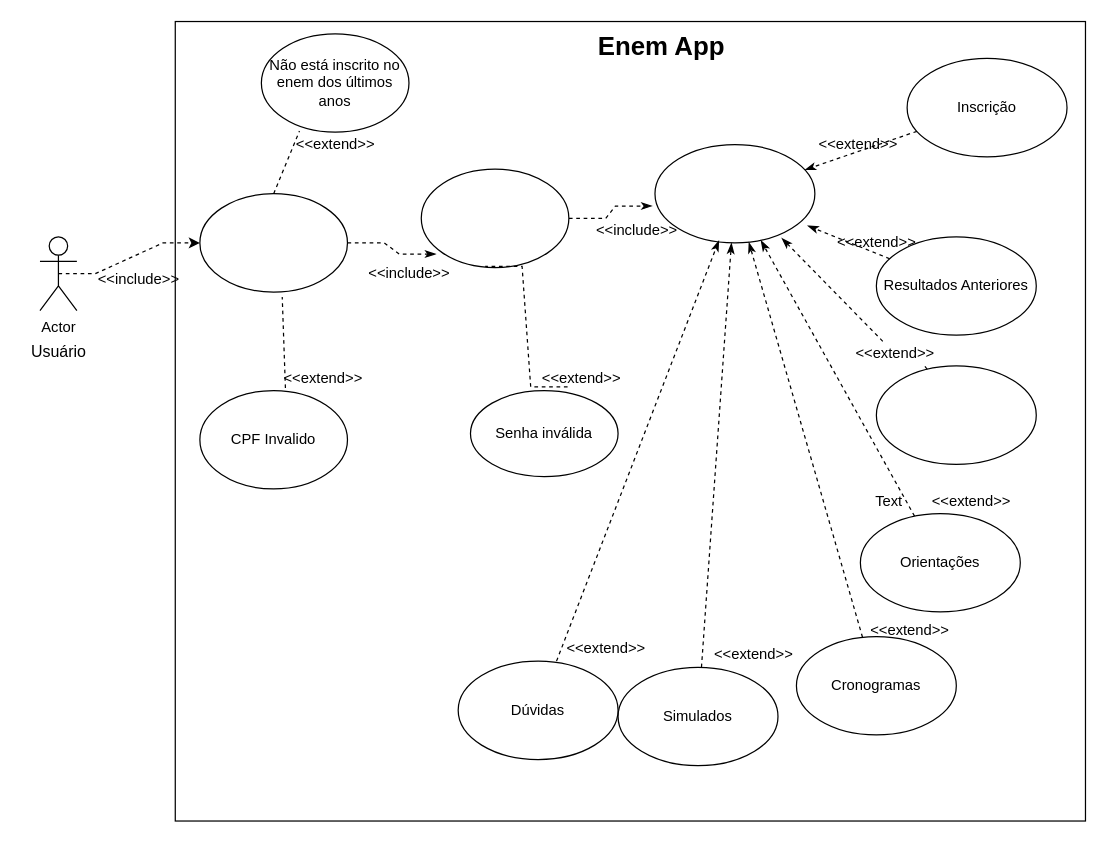
This 1107x843 diagram has some shape labels left out. Here are the shapes that lost their labels. From the top down, the centre of each, then its label:
point (734, 193): Interface Principal (Pagina do participante)
point (494, 218): Validar Senha
point (273, 242): Validar CPF (Login Único)
point (955, 414): Baixar conteúdo(redação,vista pedagógica)
